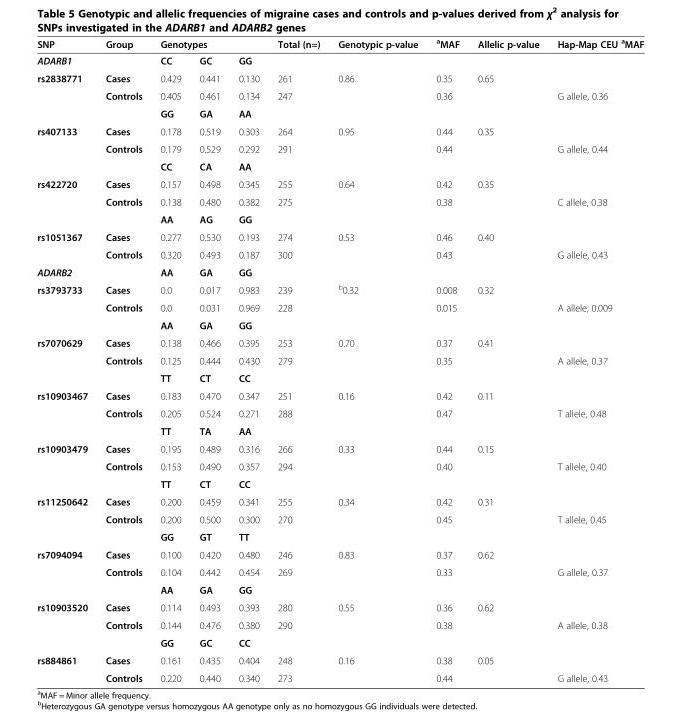table: (36, 36, 643, 683)
table column: (328, 36, 426, 683), (547, 36, 643, 683), (467, 36, 547, 683), (267, 36, 328, 683), (36, 36, 96, 683), (96, 36, 150, 683), (426, 36, 467, 683), (150, 36, 189, 683), (189, 36, 228, 683), (228, 36, 267, 683)
table column header: (36, 36, 643, 69)
table row: (36, 86, 643, 104), (36, 104, 643, 122), (36, 139, 643, 157), (36, 157, 643, 175), (36, 192, 643, 210), (36, 227, 643, 245), (36, 245, 643, 263), (36, 280, 643, 298), (36, 298, 643, 316), (36, 333, 643, 351), (36, 351, 643, 369), (36, 386, 643, 404), (36, 421, 643, 439), (36, 439, 643, 457), (36, 474, 643, 492), (36, 492, 643, 510), (36, 527, 643, 545), (36, 545, 643, 563), (36, 580, 643, 598), (36, 615, 643, 633), (36, 633, 643, 651), (36, 52, 643, 69), (36, 69, 643, 86), (36, 122, 643, 139), (36, 175, 643, 192), (36, 210, 643, 227), (36, 263, 643, 280), (36, 316, 643, 333), (36, 369, 643, 386), (36, 404, 643, 421), (36, 457, 643, 474), (36, 510, 643, 527), (36, 563, 643, 580), (36, 598, 643, 615), (36, 651, 643, 668), (36, 36, 643, 52), (36, 668, 643, 683)
table spanning cell: (328, 36, 426, 69), (36, 69, 96, 122), (36, 122, 96, 175), (36, 280, 96, 333), (36, 333, 96, 386), (36, 386, 96, 439), (36, 439, 96, 492), (36, 492, 96, 545), (36, 545, 96, 598), (36, 598, 96, 651), (547, 36, 643, 69), (36, 175, 96, 227), (467, 36, 547, 69), (36, 227, 96, 263), (267, 36, 328, 69), (36, 36, 96, 69), (36, 651, 96, 683), (150, 36, 267, 52), (96, 36, 150, 69), (426, 36, 467, 69)
